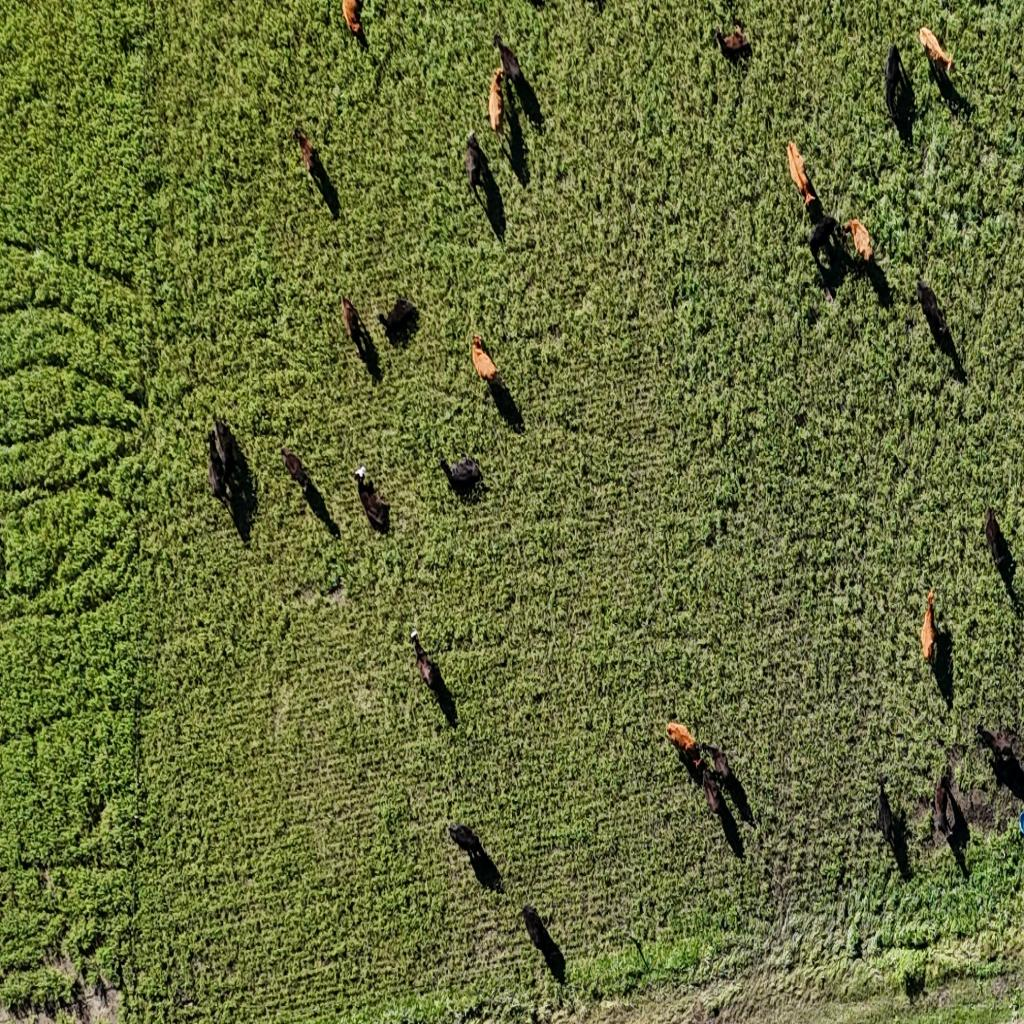cow: (464, 134, 504, 242), (446, 821, 492, 879), (976, 723, 1022, 777), (876, 779, 904, 864), (354, 466, 390, 532), (983, 508, 1014, 584), (487, 372, 524, 432), (411, 627, 443, 693), (917, 280, 949, 344), (666, 721, 702, 777), (438, 452, 482, 496), (376, 297, 418, 343), (788, 142, 816, 211), (493, 33, 523, 92), (918, 26, 954, 74), (284, 445, 314, 502), (292, 127, 320, 187), (707, 743, 739, 795), (206, 429, 228, 501), (810, 216, 844, 256), (921, 588, 938, 667), (843, 220, 873, 264), (340, 294, 363, 348), (714, 24, 750, 58), (488, 66, 505, 134), (521, 905, 545, 949), (934, 772, 950, 838), (884, 44, 902, 98), (338, 0, 363, 37)
